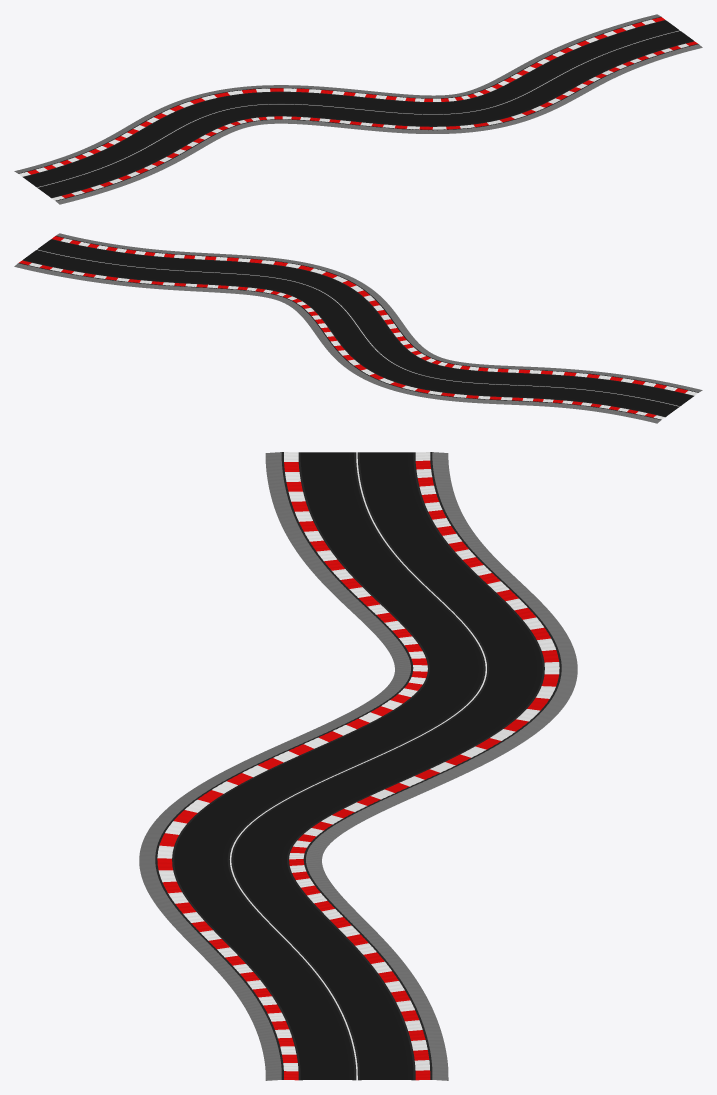
File: S0.Group.202.export.A1M1H0chicaneLR.glb
3 views of the same model, one above another, from view 1: azimuth 30°, elevation 25°; view 2: azimuth 150°, elevation 25°; view 3: azimuth 270°, elevation 25° (orthographic). The views are drawn at different scales.
Parts seen in each view (by area): view 1: Grid; view 2: Grid; view 3: Grid.
Boxes of the visible parts, <box> form: Grid: <box>14,14,702,204</box>; Grid: <box>14,233,702,423</box>; Grid: <box>139,452,577,1080</box>.
Bounding box in the file's own units: 203 × 0.21 × 59.98.
